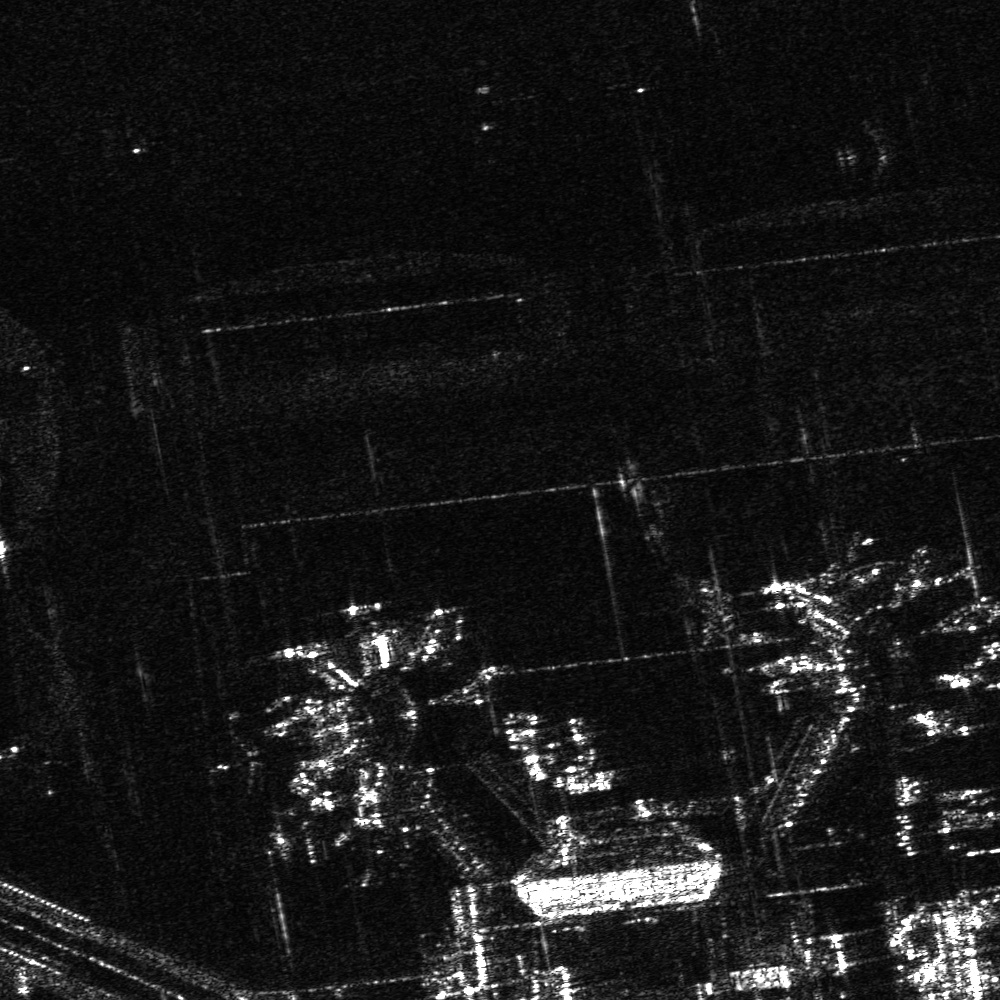A220: (204, 722, 274, 801)
